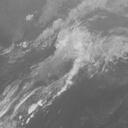cyclone: (44, 25, 92, 82)
